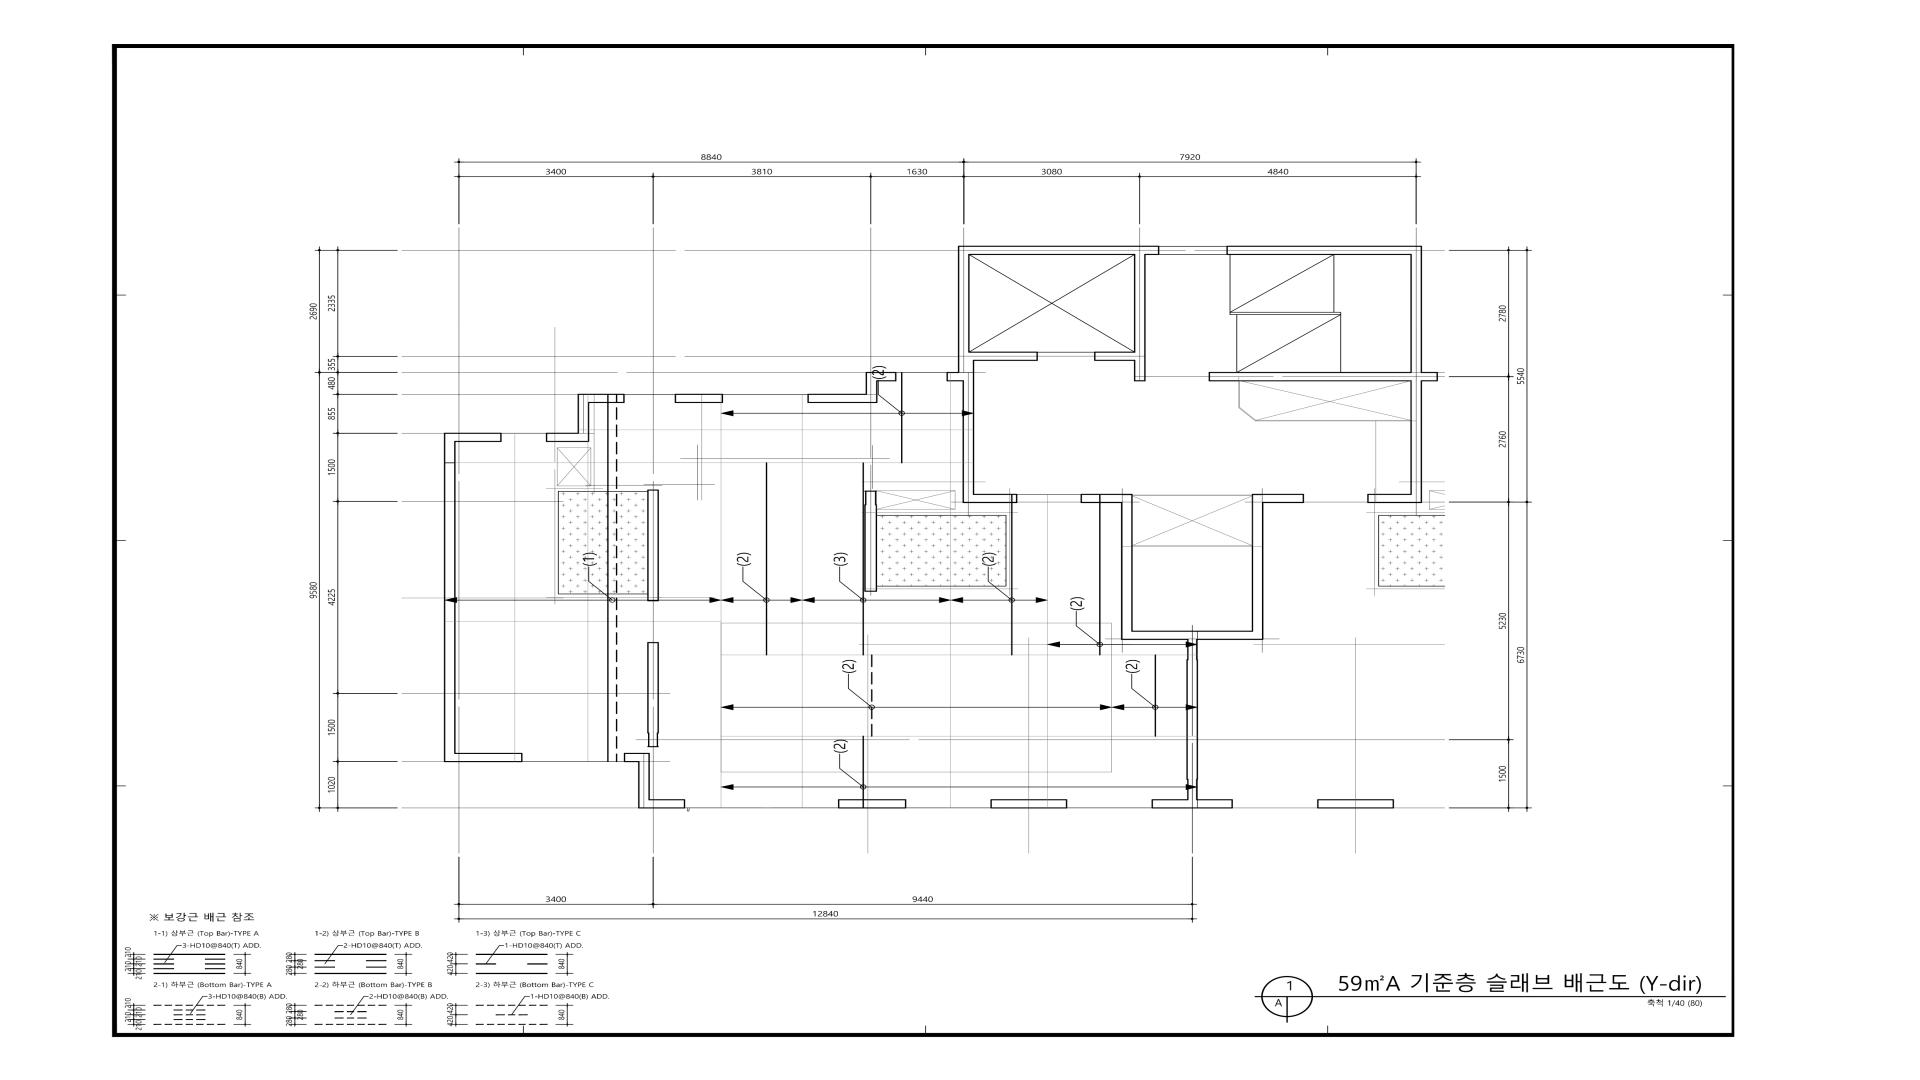wall: (1226, 245, 1422, 372), (444, 433, 501, 762), (1151, 640, 1233, 808), (1095, 255, 1146, 381), (546, 394, 625, 442), (947, 372, 975, 502), (624, 753, 684, 808), (807, 372, 897, 404), (1209, 372, 1437, 381), (957, 255, 975, 372), (957, 245, 1159, 255), (1251, 504, 1263, 640), (1121, 502, 1133, 630), (1411, 381, 1423, 502), (864, 491, 877, 592), (647, 489, 659, 601), (647, 642, 659, 746), (1121, 630, 1251, 640), (990, 799, 1067, 808), (1317, 799, 1394, 808), (837, 799, 906, 808), (456, 753, 522, 762), (975, 352, 1038, 361), (1251, 495, 1304, 504), (975, 493, 1018, 504), (675, 394, 723, 404), (1080, 495, 1133, 502), (1367, 495, 1411, 504)
